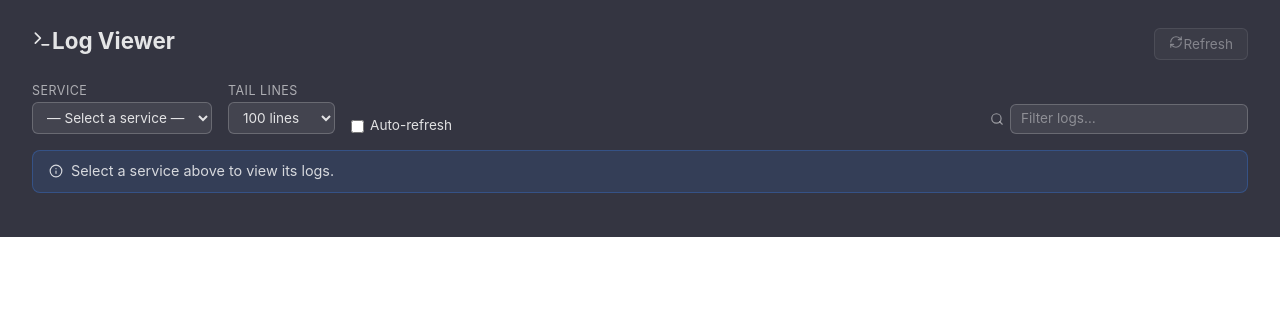
Test: AdminLogsPage › filters log lines by search text
Select "solr-search" in the dropdown labelled "Service" at (122, 118), box x1=32 y1=102 x2=212 y2=134
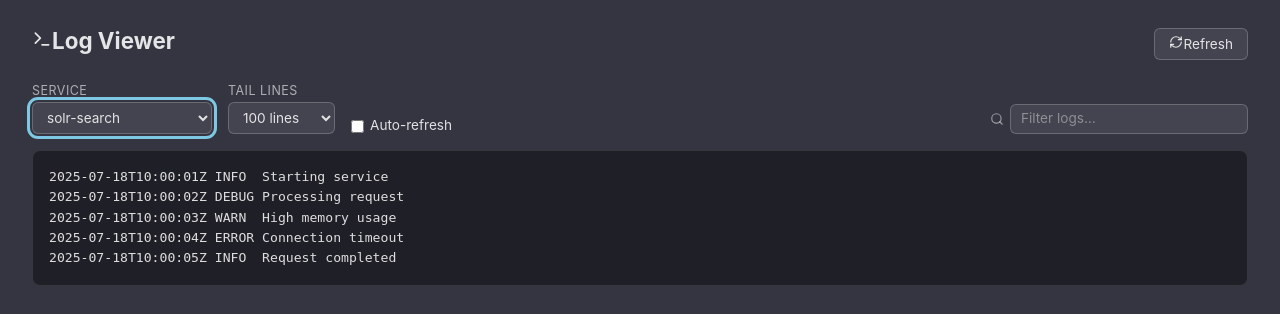
Now the text "2025-07-18T10:00:01Z INFO Starting service" is shown, box x1=49 y1=169 x2=388 y2=184
Type "ERROR" into the field named "search within logs".
click(1129, 119); type("ERROR")  # box x1=1010 y1=104 x2=1248 y2=134
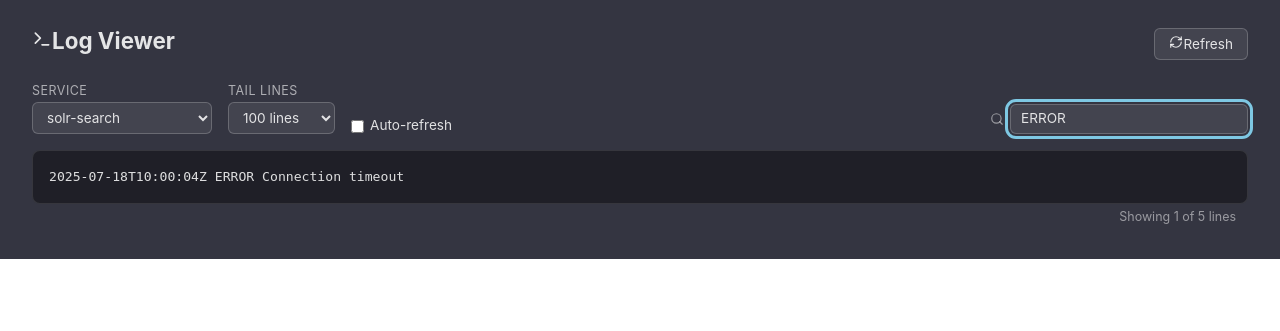
Now the text "Showing 1 of 5 lines" is shown, box x1=1119 y1=209 x2=1236 y2=224
Now the text "2025-07-18T10:00:04Z ERROR Connection timeout" is shown, box x1=49 y1=169 x2=404 y2=184
Now the text "Starting service" is gone
